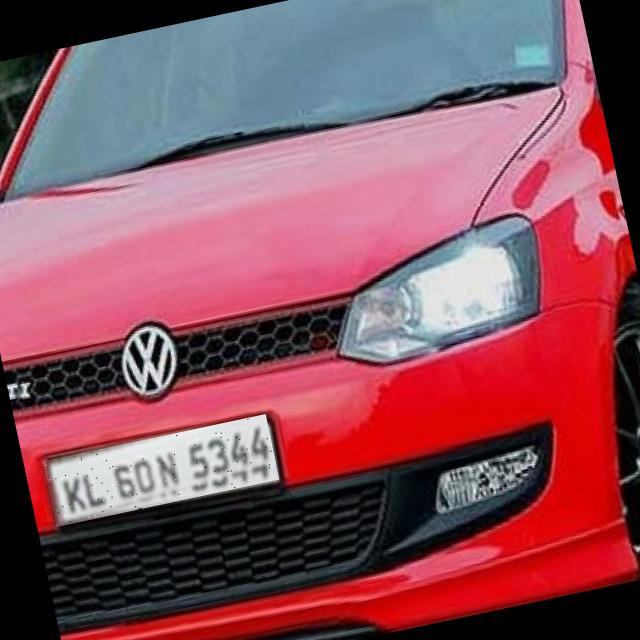Plate: (43, 415, 280, 528)
